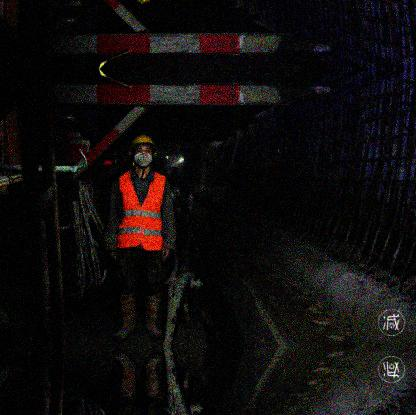helmet: (130, 132, 158, 170)
